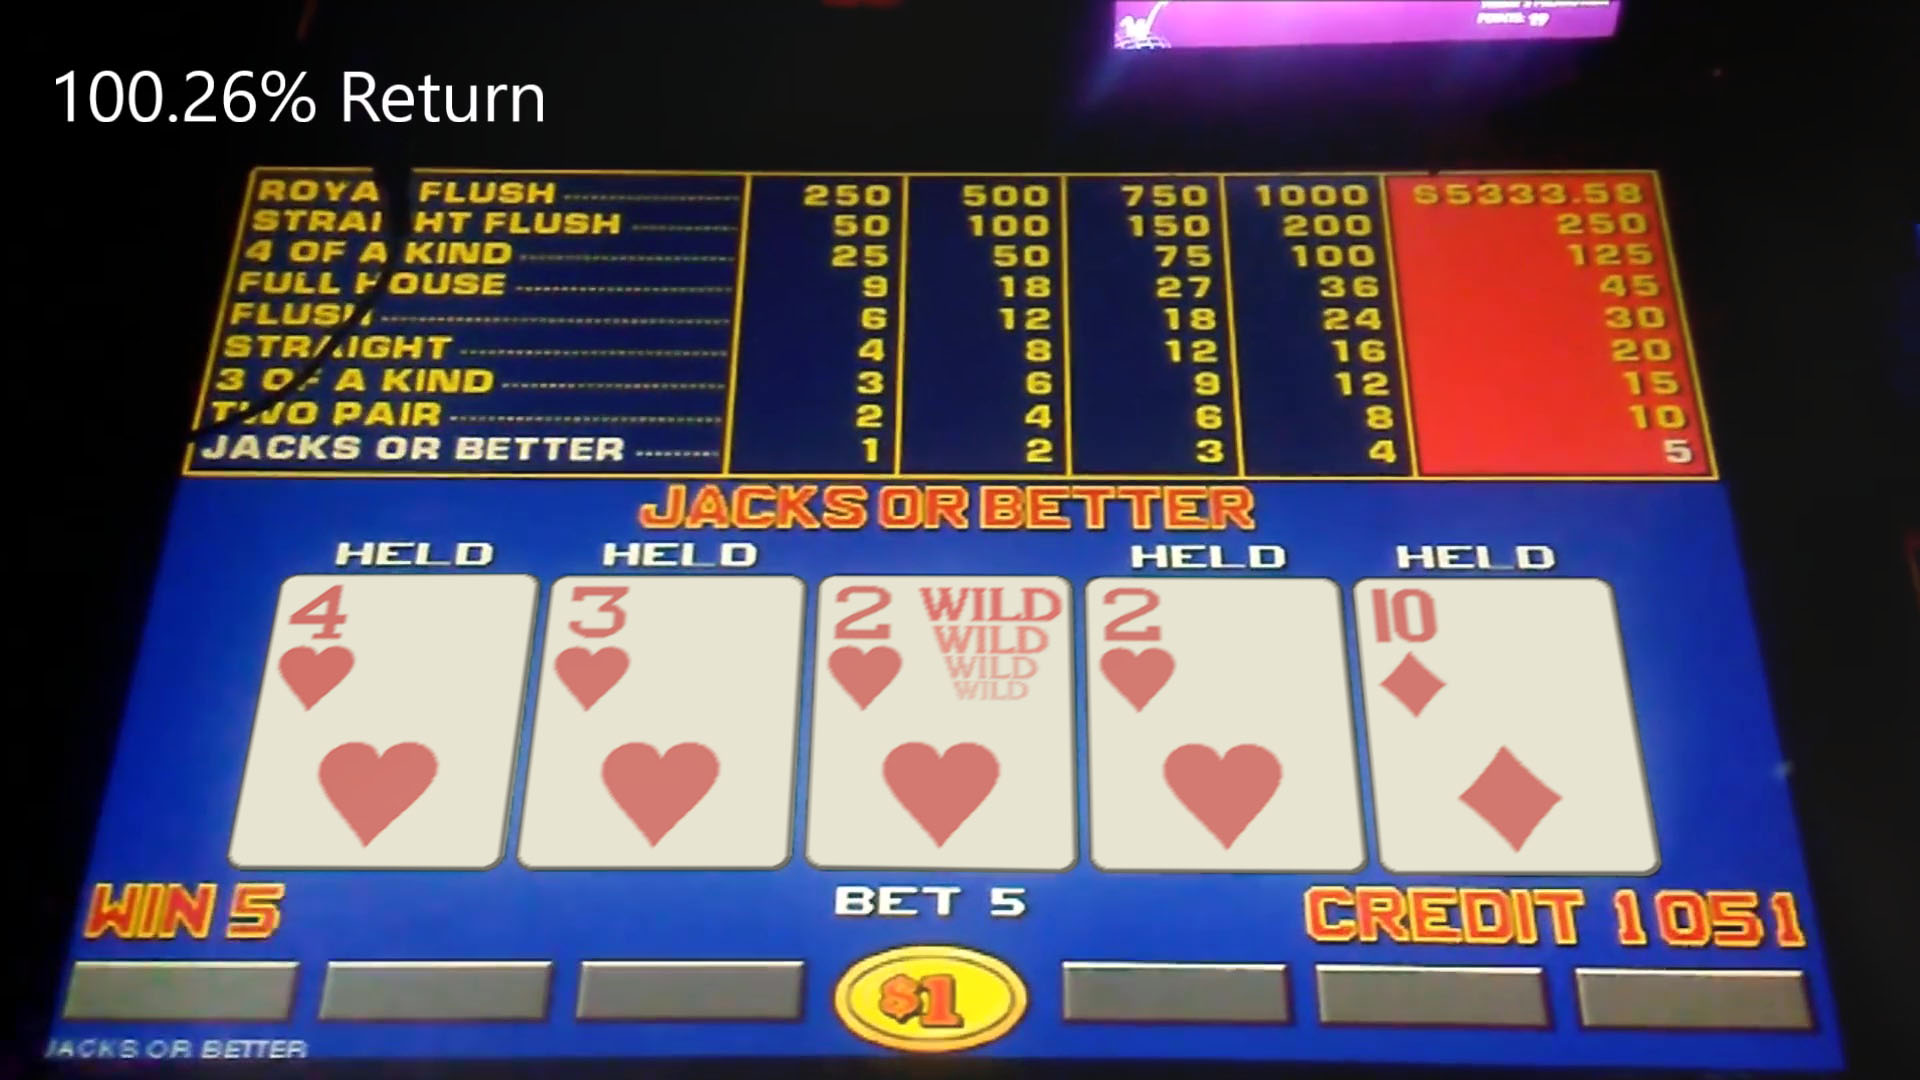DT: (1373, 582, 1625, 872)
H2: (1091, 580, 1348, 872)
H2W: (811, 575, 1076, 869)
H3: (546, 575, 795, 866)
H4: (266, 576, 506, 865)
